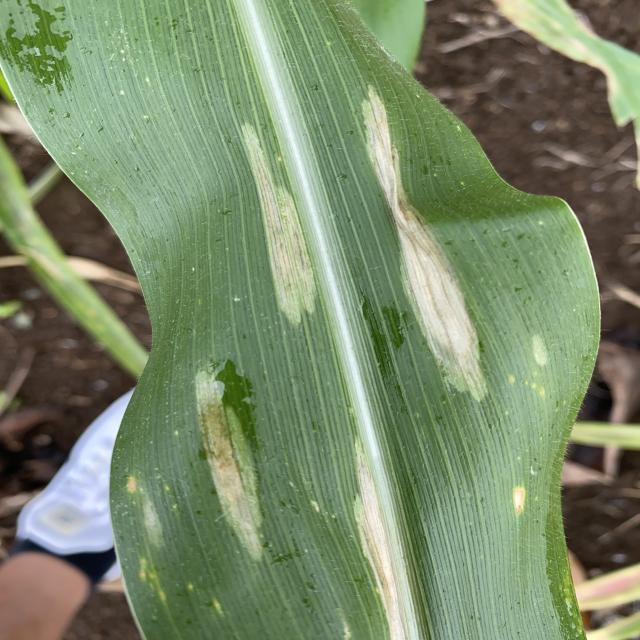Corn_Leaf_Blight: (113, 66, 586, 640)
